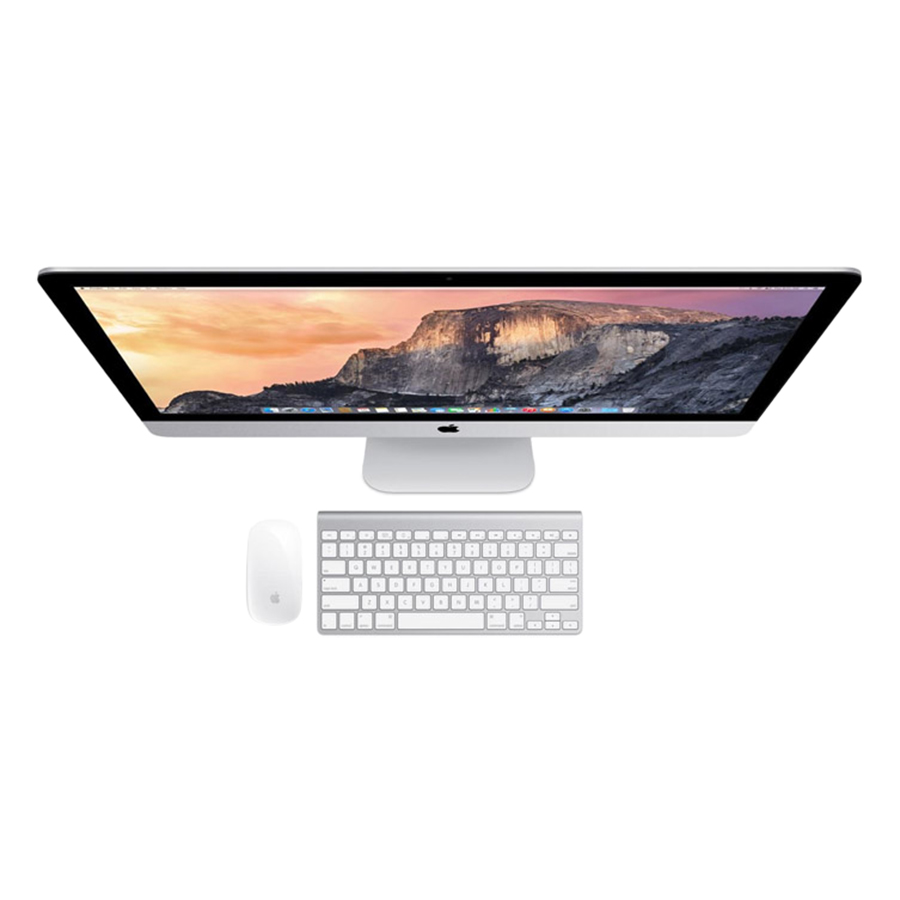Apple: (186, 508, 349, 668), (355, 366, 491, 504)
